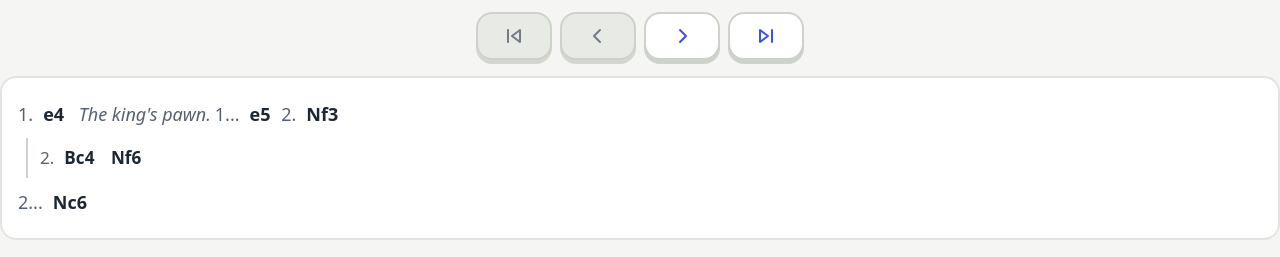
Test: ContinuationViewer › steps forwards and back with the buttons
Later steps or results of the test are not shown.
Step 1. Click the button named "Next move" → point(682, 36), box [644,12,720,60]
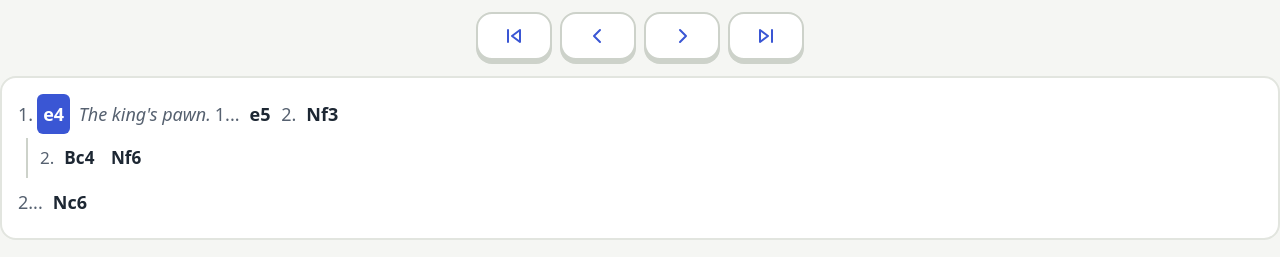
Step 2. Click the button named "Previous move" → point(598, 36), box [560,12,636,60]
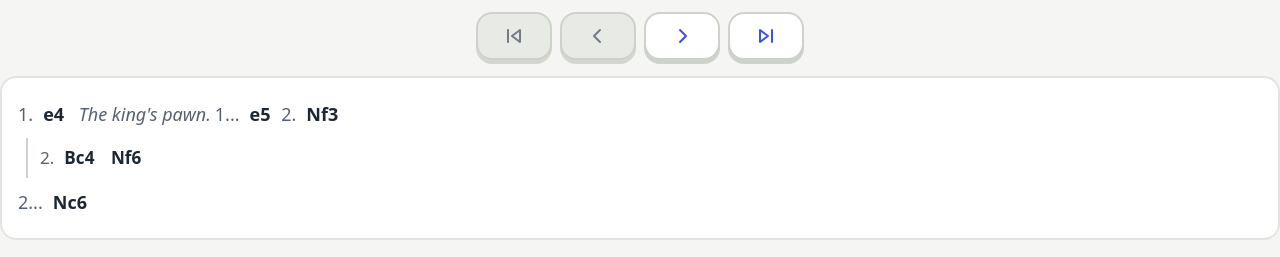
Step 3. Click the button named "Forward to the end" → point(766, 36), box [728,12,804,60]
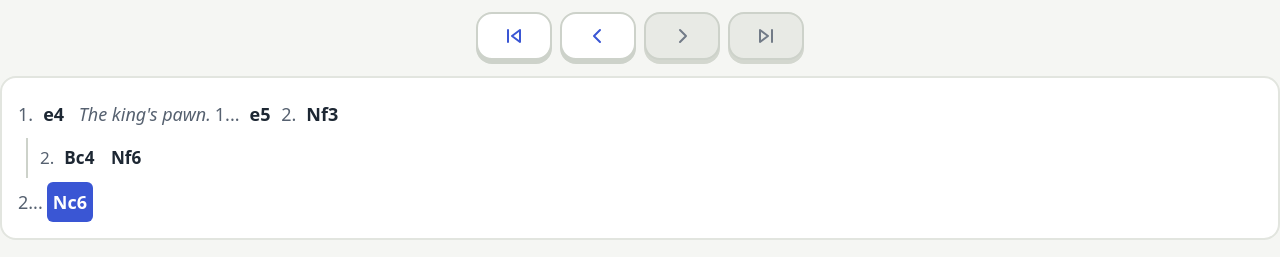
expect the button with aria-label "2... Nc6" is marked as current: met, box [47,182,93,222]
